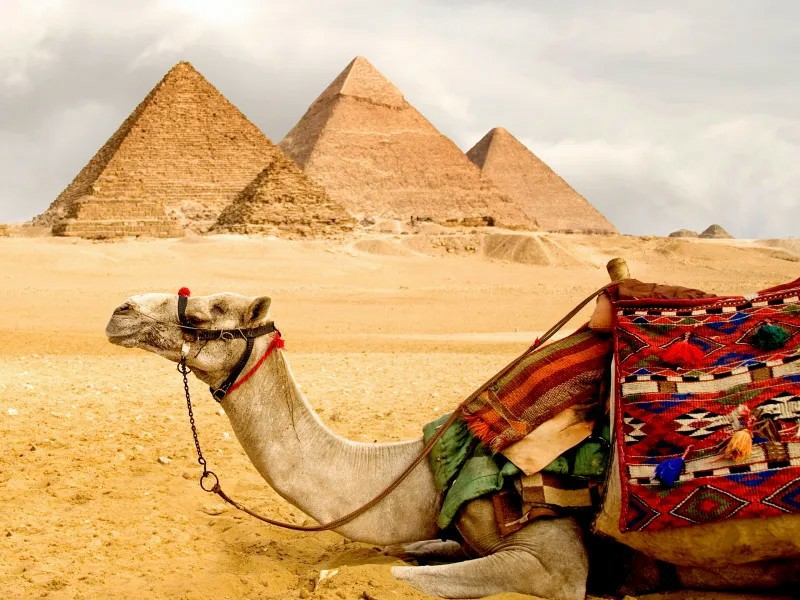Pyramid: (36, 62, 357, 232), (279, 55, 542, 232), (466, 127, 619, 236)
